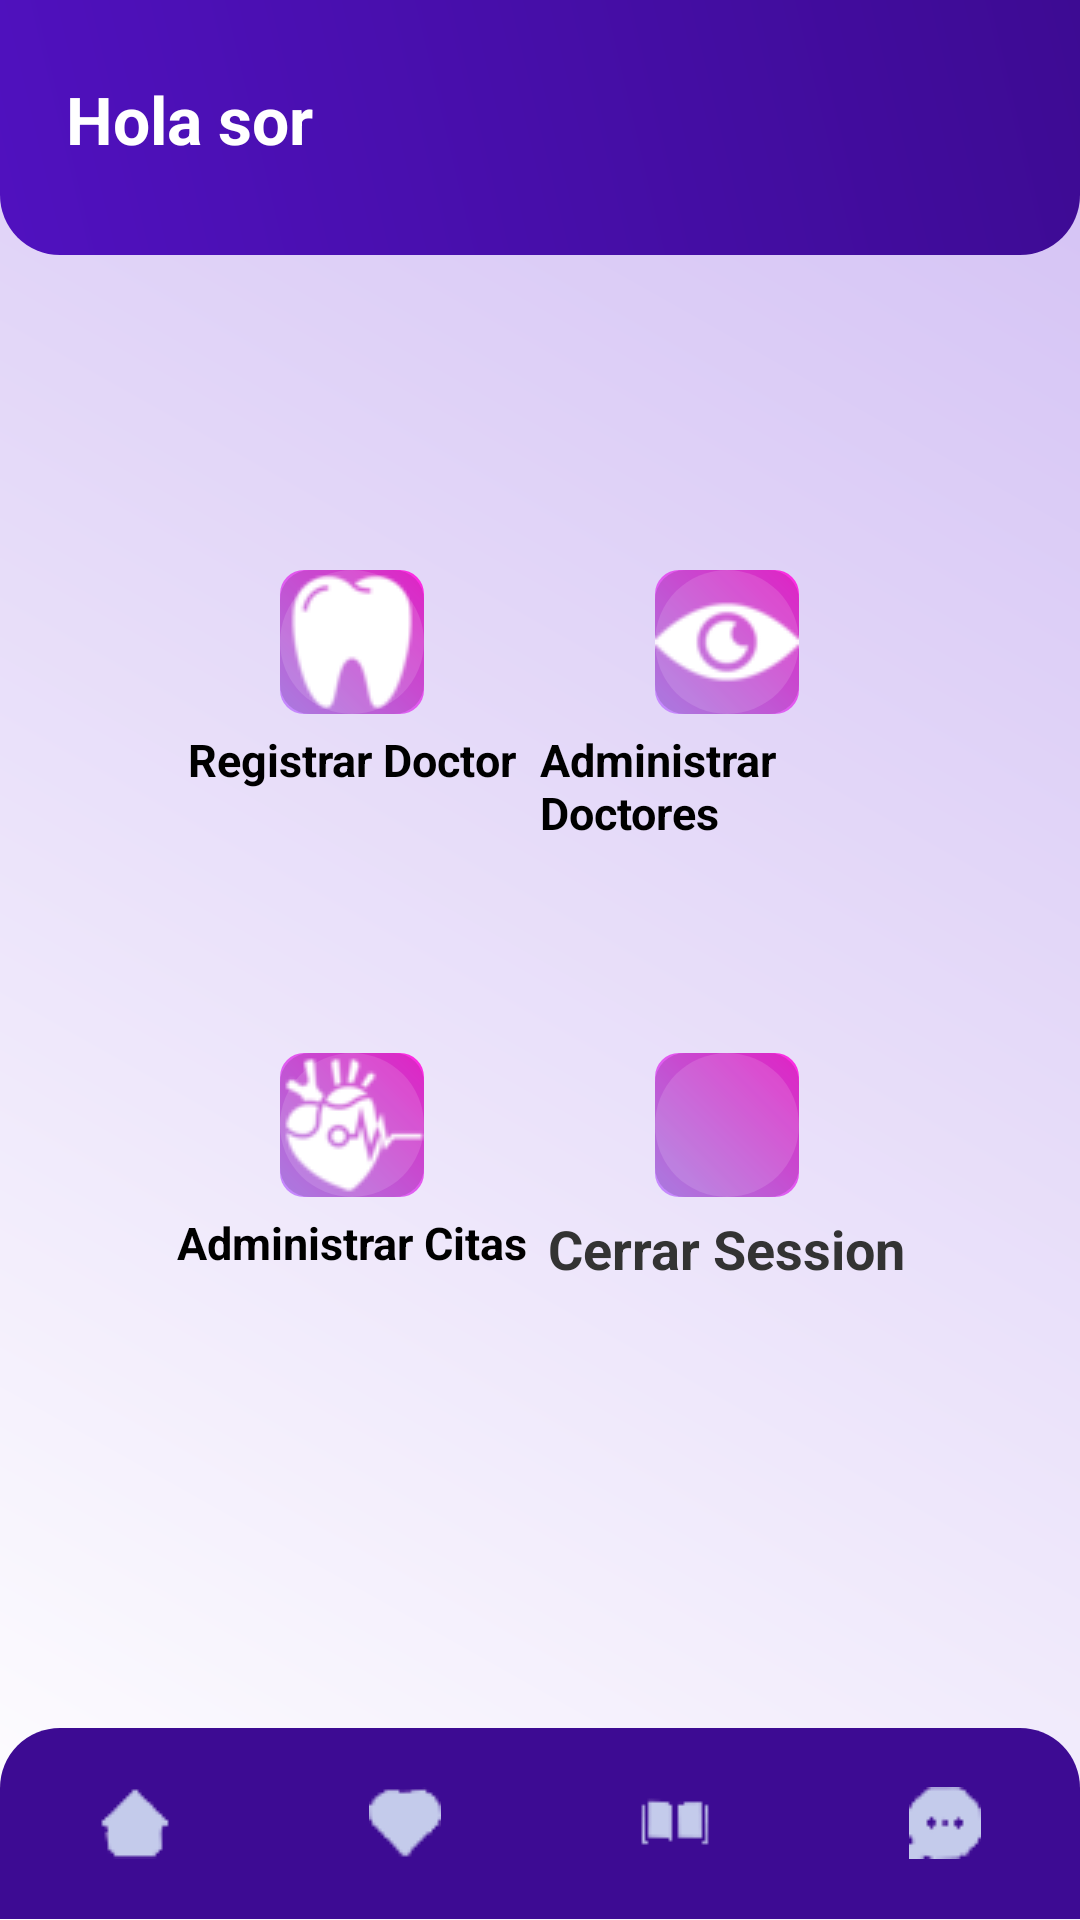

Locate icon controls on the screen. Image size 1080x1920, boxes as box=[x1, y1, x2, y2].
book: box=[641, 1800, 709, 1845]
home: box=[101, 1789, 169, 1857]
home eye: box=[655, 570, 799, 714]
home heart: box=[280, 1053, 424, 1197]
home tooth: box=[280, 570, 424, 714]
love: box=[369, 1789, 441, 1857]
messenger: box=[909, 1787, 981, 1859]
